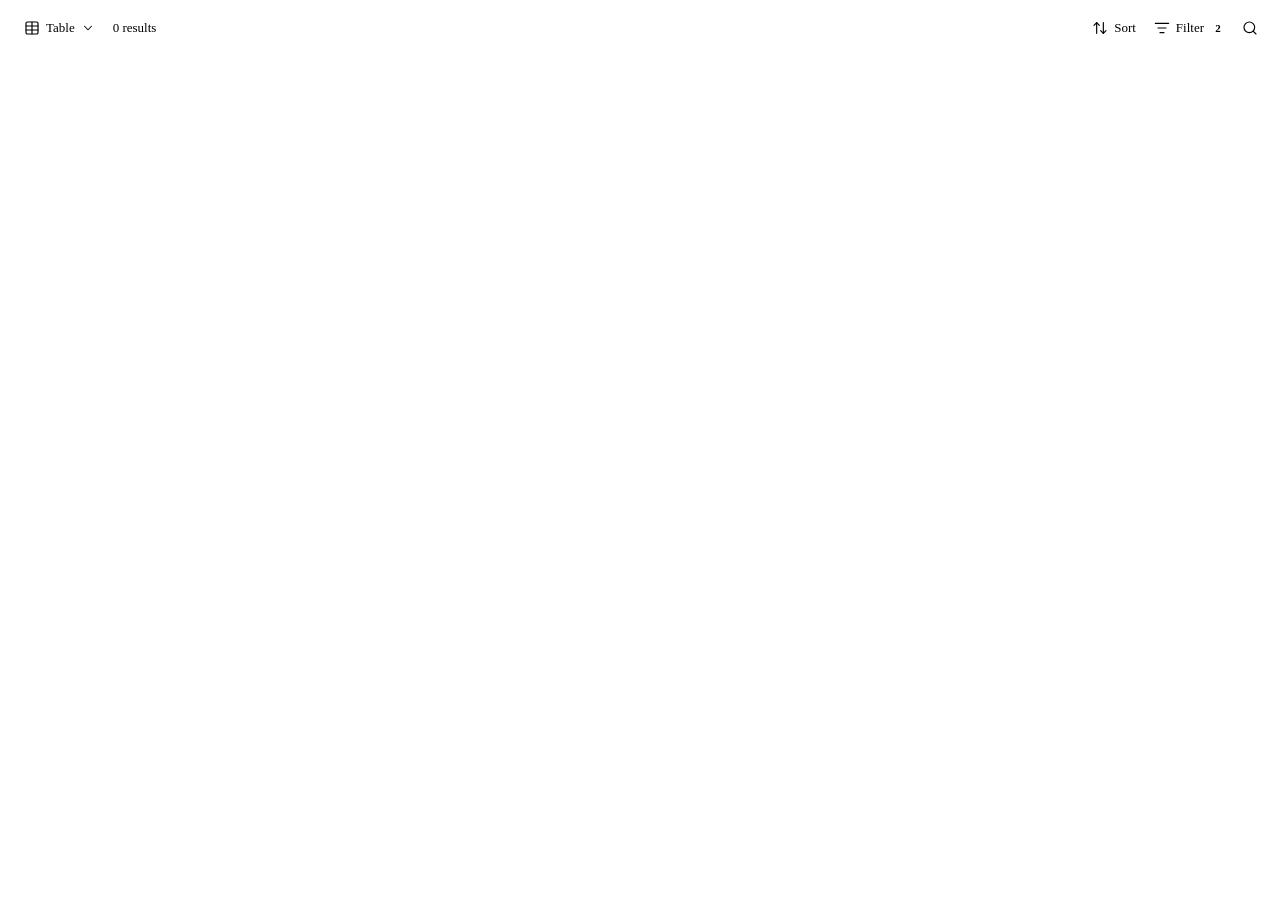
Filter popover rows (#617) › shows the rows of filters already set (a saved view, or one an AI caller set)
The width and height of the screenshot is (1280, 900).
Later steps or results of the test are not shown.
Click the button "Filter 2". click: (1190, 28)
box: x1=1146 y1=14 x2=1234 y2=42
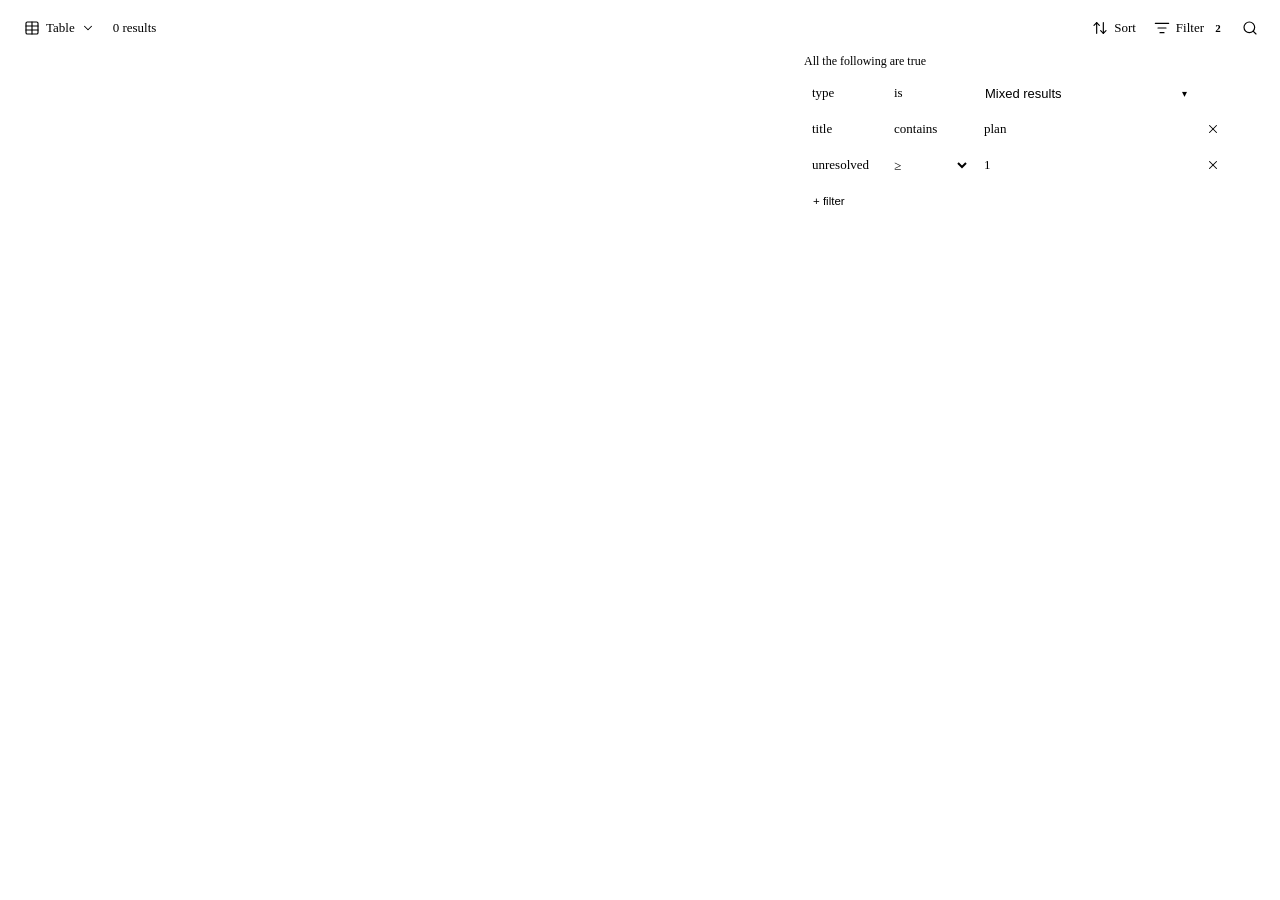
Check: the field named "title-contains" holds "plan", box x1=976 y1=115 x2=1196 y2=143
Check: the dropdown named "unresolved comparison" shows "≥", box x1=886 y1=151 x2=970 y2=179
